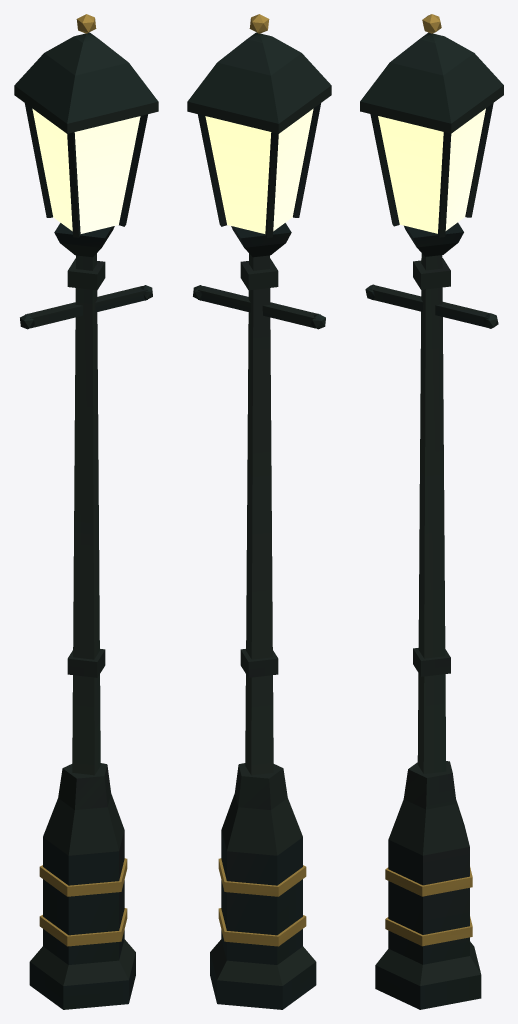
File: ld_lamp_lo-CODN43Qo.glb
The picture shows the model from 3 angles, left to right: view 1: azimuth 30°, elevation 25°; view 2: azimuth 150°, elevation 25°; view 3: azimuth 330°, elevation 25°; orthographic projection.
Bounding box in the file's own units: 0.6915 × 4.9 × 0.4947.
